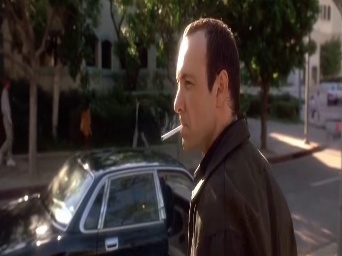smoke: (159, 124, 183, 140)
